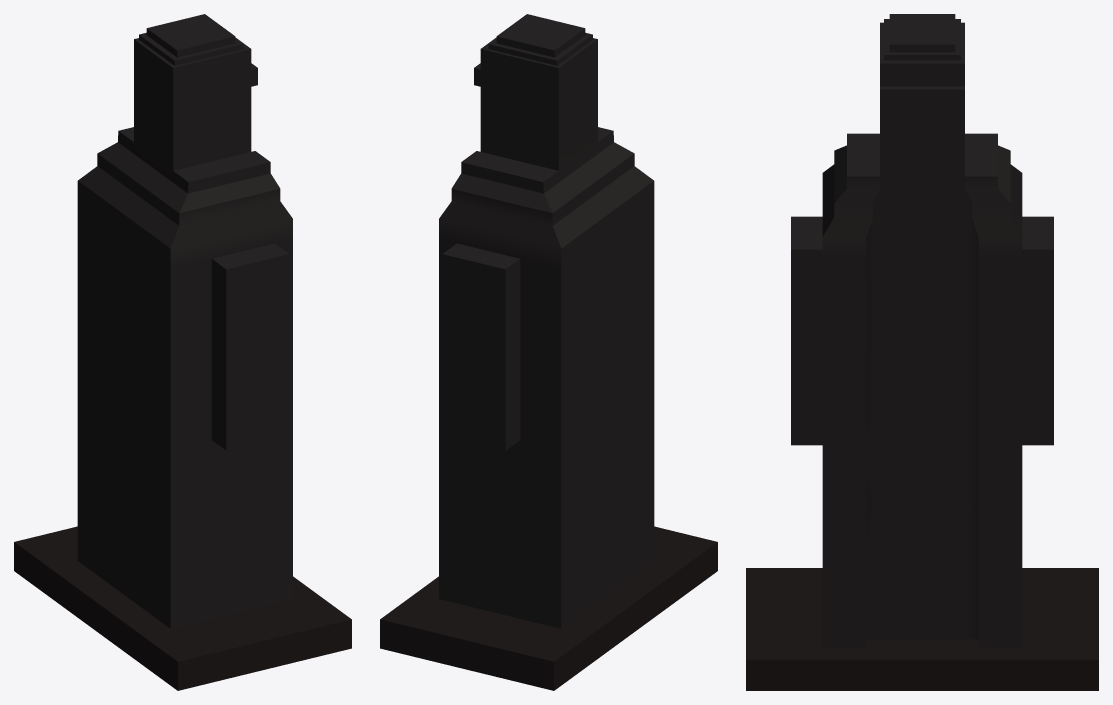
File: Mini Statue.fbx
3 views of the same model, side by side, from view 1: azimuth 30°, elevation 25°; view 2: azimuth 150°, elevation 25°; view 3: azimuth 270°, elevation 25° (orthographic). The views are drawn at different scales.
Parts seen in each view (by area): view 1: Mini_Statue; view 2: Mini_Statue; view 3: Mini_Statue.
Boxes of the visible parts, x1=… form: Mini_Statue: x1=14, y1=14, x2=351, y2=690; Mini_Statue: x1=380, y1=14, x2=717, y2=690; Mini_Statue: x1=746, y1=14, x2=1098, y2=690.
Size of the model in its own units: 4.28 by 13.53 by 6.97.
1 material, 1 textured.
